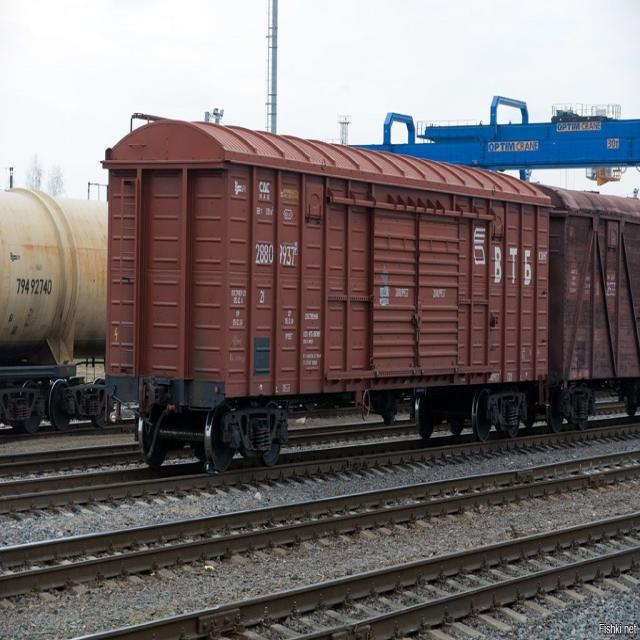boxcar: (98, 116, 555, 474), (550, 167, 640, 432)
tank: (0, 169, 108, 436)
